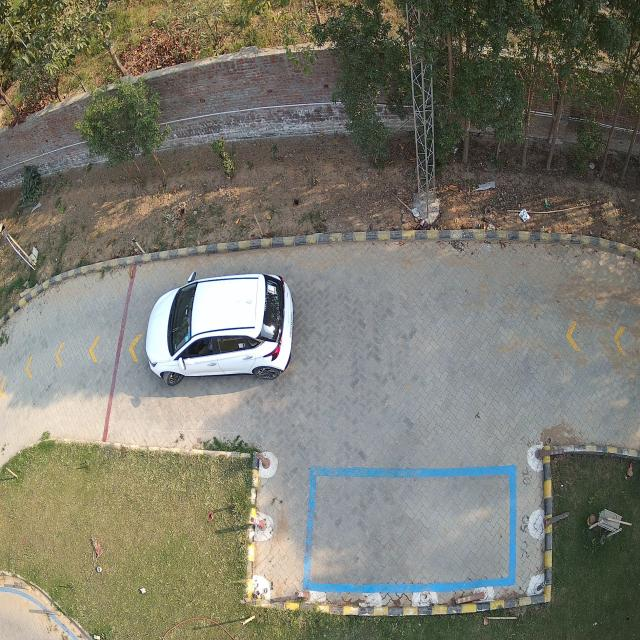car: (145, 273, 294, 385)
